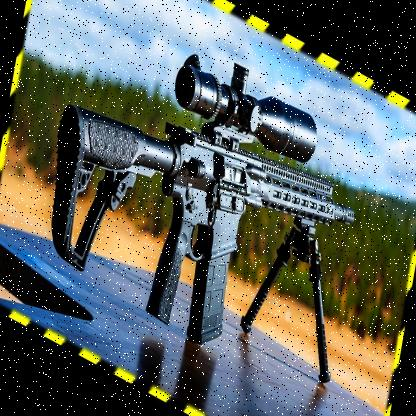rifle: (35, 0, 383, 416)
